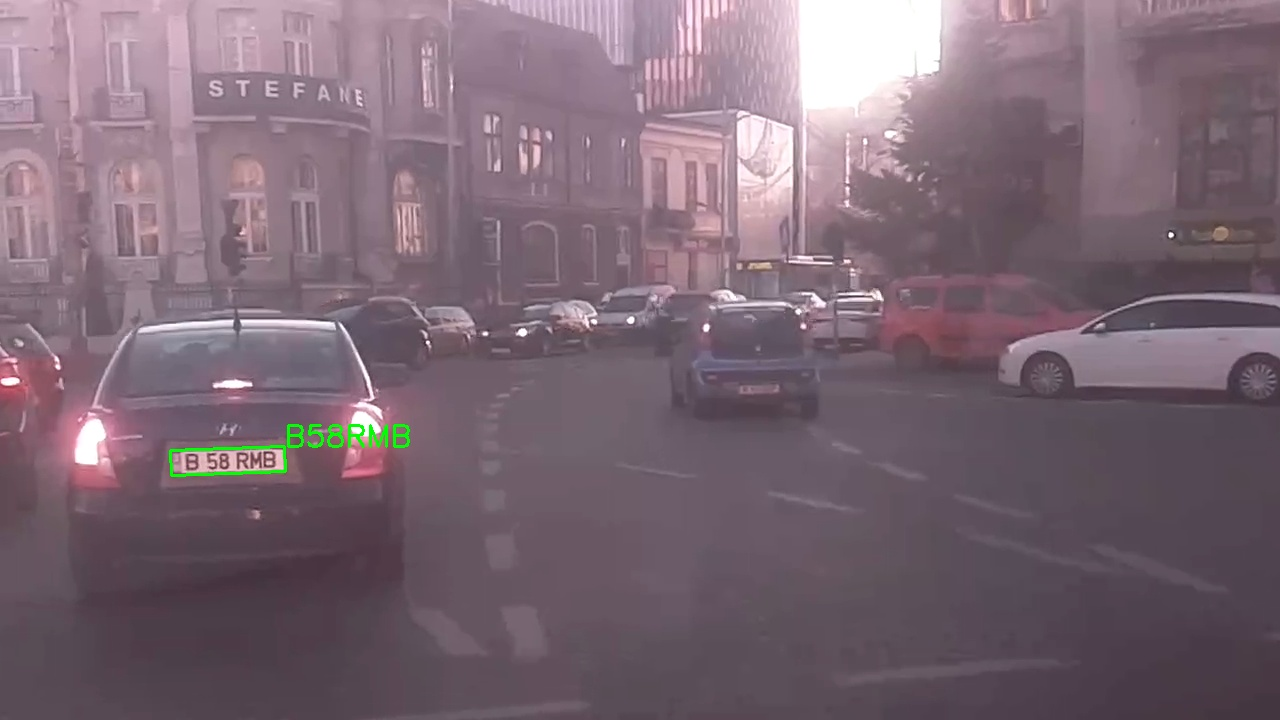license-plate: (170, 446, 287, 476)
